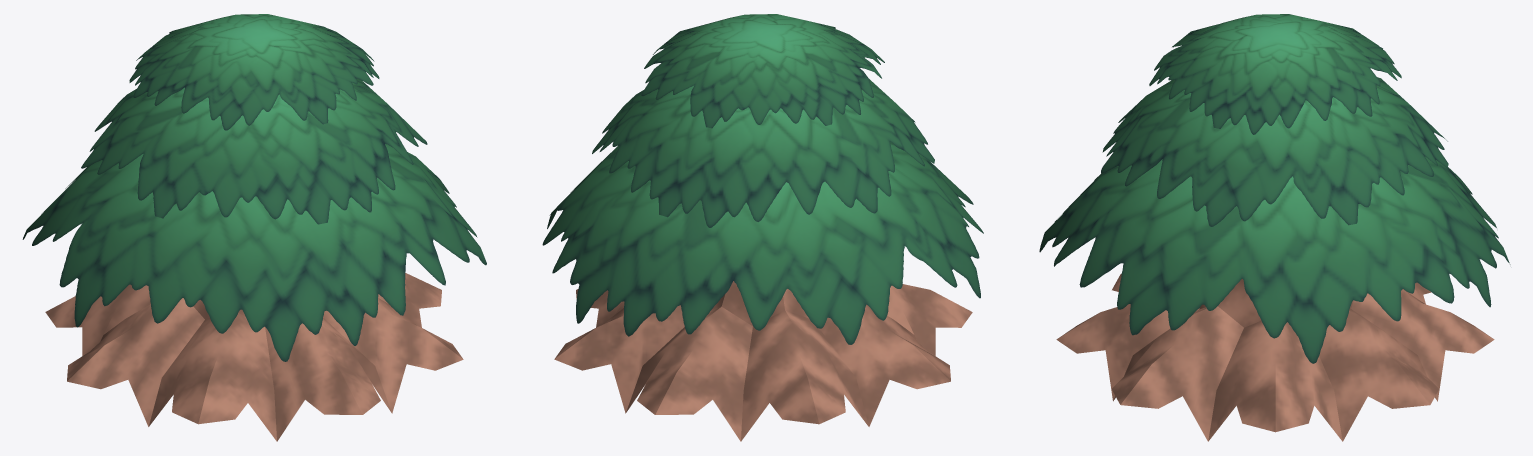
Rendered from treeBorder.glb.
3 renders of one model, left to right at view 1: azimuth 30°, elevation 25°; view 2: azimuth 150°, elevation 25°; view 3: azimuth 270°, elevation 25°, orthographic.
Visible parts, largest first — view 1: treeObstacle; view 2: treeObstacle; view 3: treeObstacle.
Part boxes in pixels (box(x1,y1,x2,y2)): treeObstacle: box(22, 14, 486, 441); treeObstacle: box(542, 14, 983, 441); treeObstacle: box(1039, 14, 1510, 441).
Size of the model in its own units: 19.69 by 15.29 by 19.69.
1 material, 1 textured.
